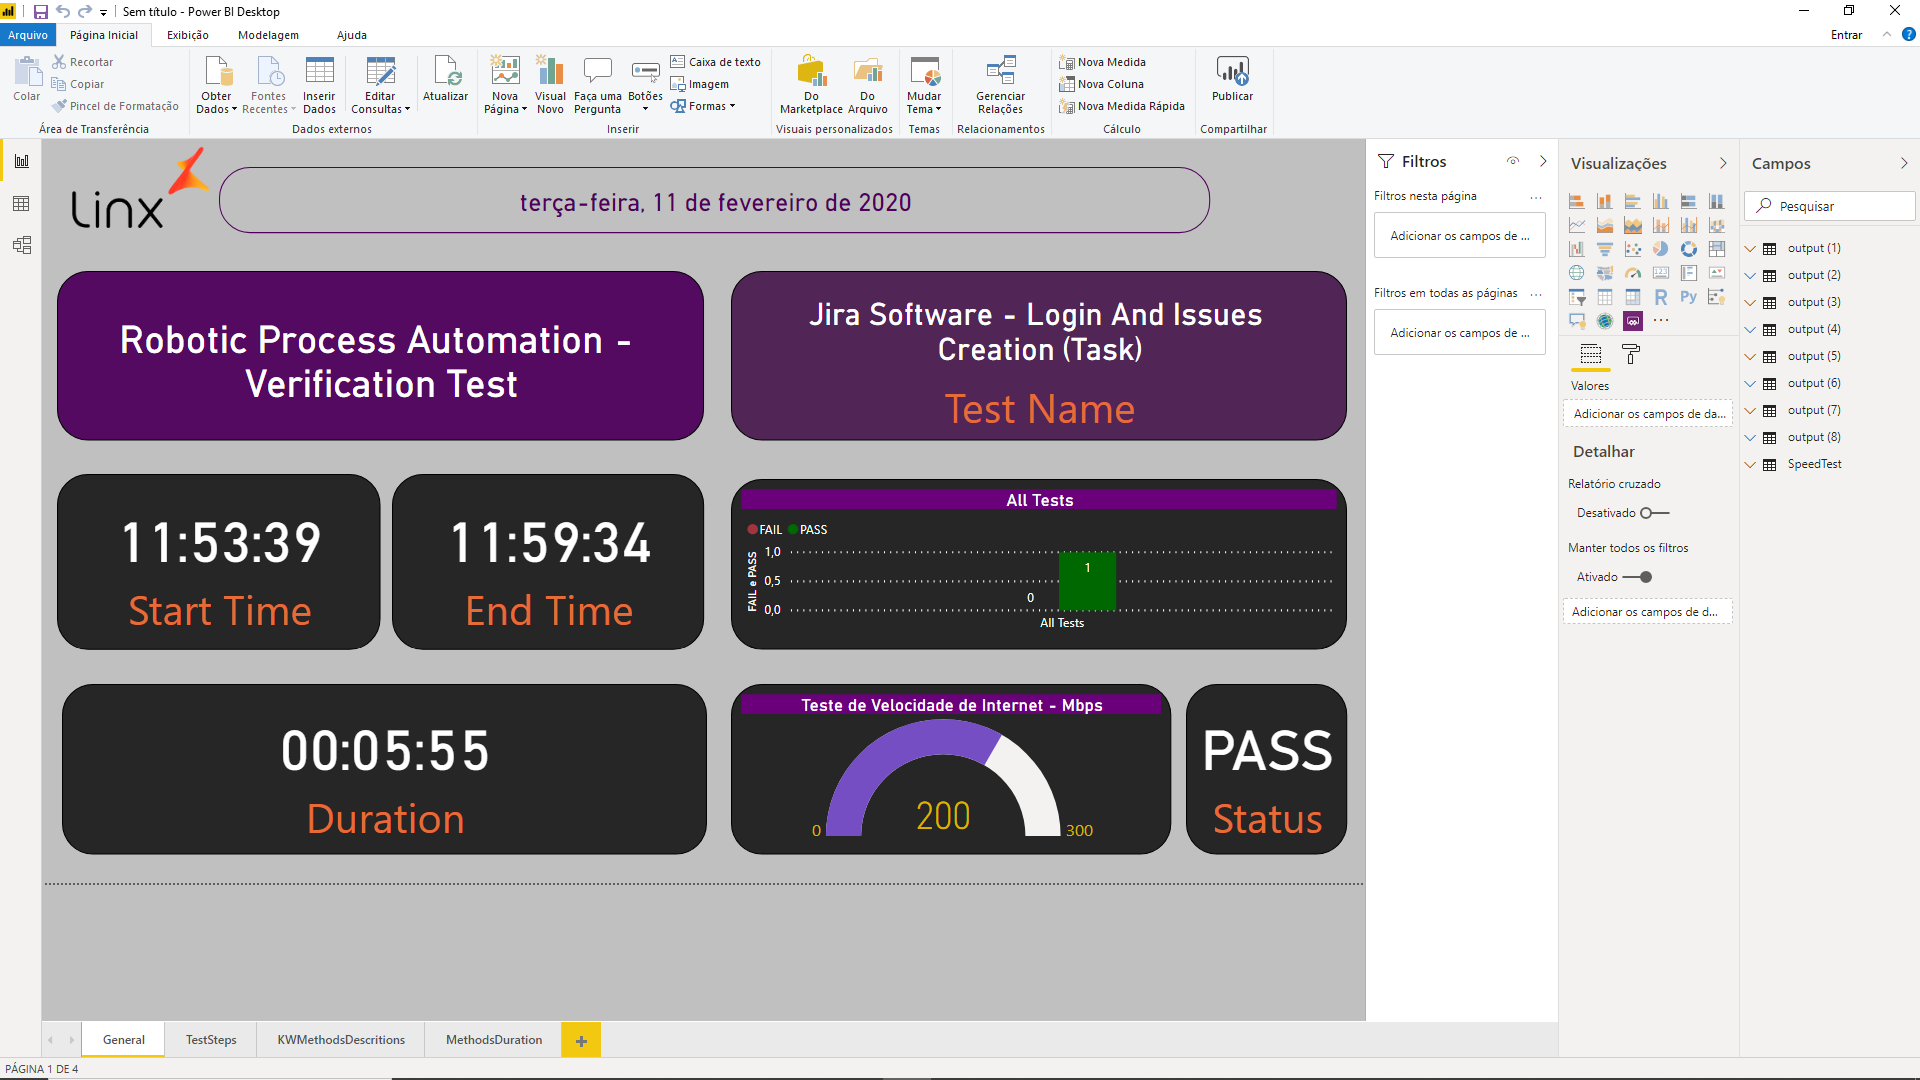

The dashboard page shown, as its layout file describes it:
{"tool":"powerbi","page":{"name":"General","canvas":[1280,720],"ordinal":0},"visuals":[{"type":"card","fields":{"Values":["Min(output (6).Attribute:starttime)"]},"box":[14.5,324.1,313.5,170.3],"z":0},{"type":"card","fields":{"Values":["Min(output (6).Attribute:endtime)"]},"box":[338.6,324.1,301.9,170.3],"z":1000},{"type":"card","fields":{"Values":["Min(output (6).Attribute:status)"]},"box":[1106.8,527.3,155.8,165.4],"z":2000},{"type":"card","fields":{"Values":["Min(output (2).doc)"]},"box":[14.5,127.7,626,163.5],"z":3000},{"type":"card","fields":{"Values":["Min(output (3).Attribute:name)"]},"box":[666.6,127.7,596,163.5],"z":4000},{"type":"clusteredColumnChart","title":"All Tests","fields":{"Y":["Sum(output (5).Attribute:fail)","Sum(output (5).Attribute:pass)"],"Category":["output (5).Element:Text"]},"box":[666.6,328.9,596,165.4],"z":5000},{"type":"card","fields":{"Values":["Min(output (6).Duration)"]},"box":[19.3,527.3,624,165.4],"z":6000},{"type":"image","box":[19.3,0,155.8,90.9],"z":7000},{"type":"card","fields":{"Values":["Min(output (6).Data)"]},"box":[171.2,27.1,958.8,63.9],"z":8000},{"type":"gauge","title":"Teste de Velocidade de Internet - Mbps","fields":{"MaxValue":["Sum(SpeedTest.Máximo)"],"MinValue":["Sum(SpeedTest.Mínimo)"],"Y":["Sum(SpeedTest.Valor)"]},"box":[666.6,527.3,425.7,165.4],"z":9000}]}

Visuals, with their boxes on the page's 1280x720 design canvas (x1, y1, x2, y2). These are canvas units, not pixel positions in the 1920x1080 screenshot, which may show the page scaled, cropped or inside an application window:
card - Min(output (6).Attribute:starttime): 14:324:328:494
card - Min(output (6).Attribute:endtime): 339:324:640:494
card - Min(output (6).Attribute:status): 1107:527:1263:693
card - Min(output (2).doc): 14:128:640:291
card - Min(output (3).Attribute:name): 667:128:1263:291
"All Tests" clusteredColumnChart: 667:329:1263:494
card - Min(output (6).Duration): 19:527:643:693
image: 19:0:175:91
card - Min(output (6).Data): 171:27:1130:91
"Teste de Velocidade de Internet - Mbps" gauge: 667:527:1092:693
